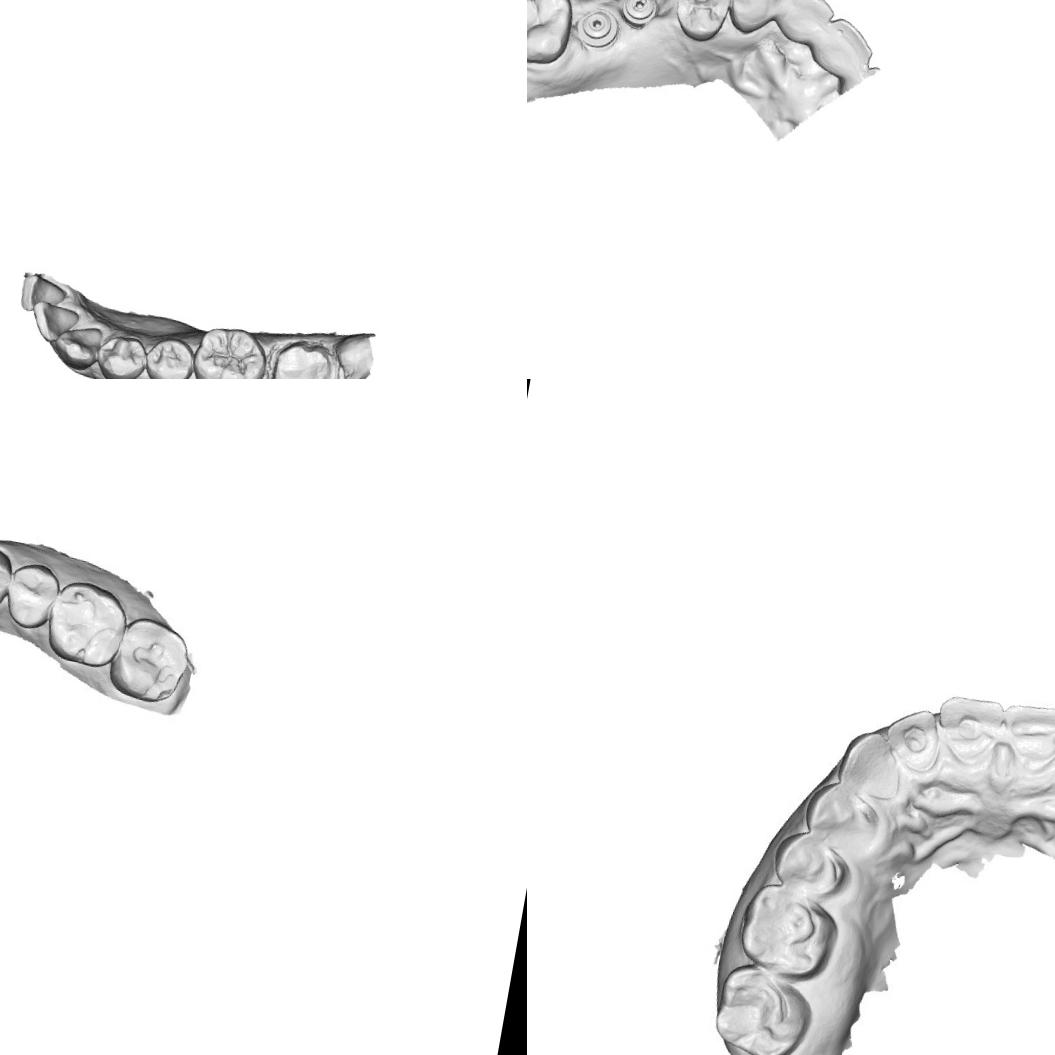canine: (834, 728, 912, 800), (50, 318, 105, 374), (721, 0, 794, 42)
crown: (260, 330, 347, 379)
implant: (572, 4, 621, 51)
implant_minus: (617, 0, 661, 30)
incisor: (936, 690, 1014, 776), (886, 702, 952, 778), (996, 698, 1055, 783), (807, 13, 878, 81), (774, 0, 838, 49), (26, 297, 82, 347), (16, 270, 68, 317)
molar: (713, 958, 811, 1055), (739, 882, 832, 978), (104, 610, 194, 708), (40, 576, 131, 672), (186, 318, 274, 379), (527, 0, 577, 69)
premolar: (804, 778, 884, 846), (774, 828, 848, 894), (1, 560, 64, 632), (666, 0, 735, 45), (90, 328, 150, 379), (138, 331, 197, 379), (0, 540, 17, 619)
